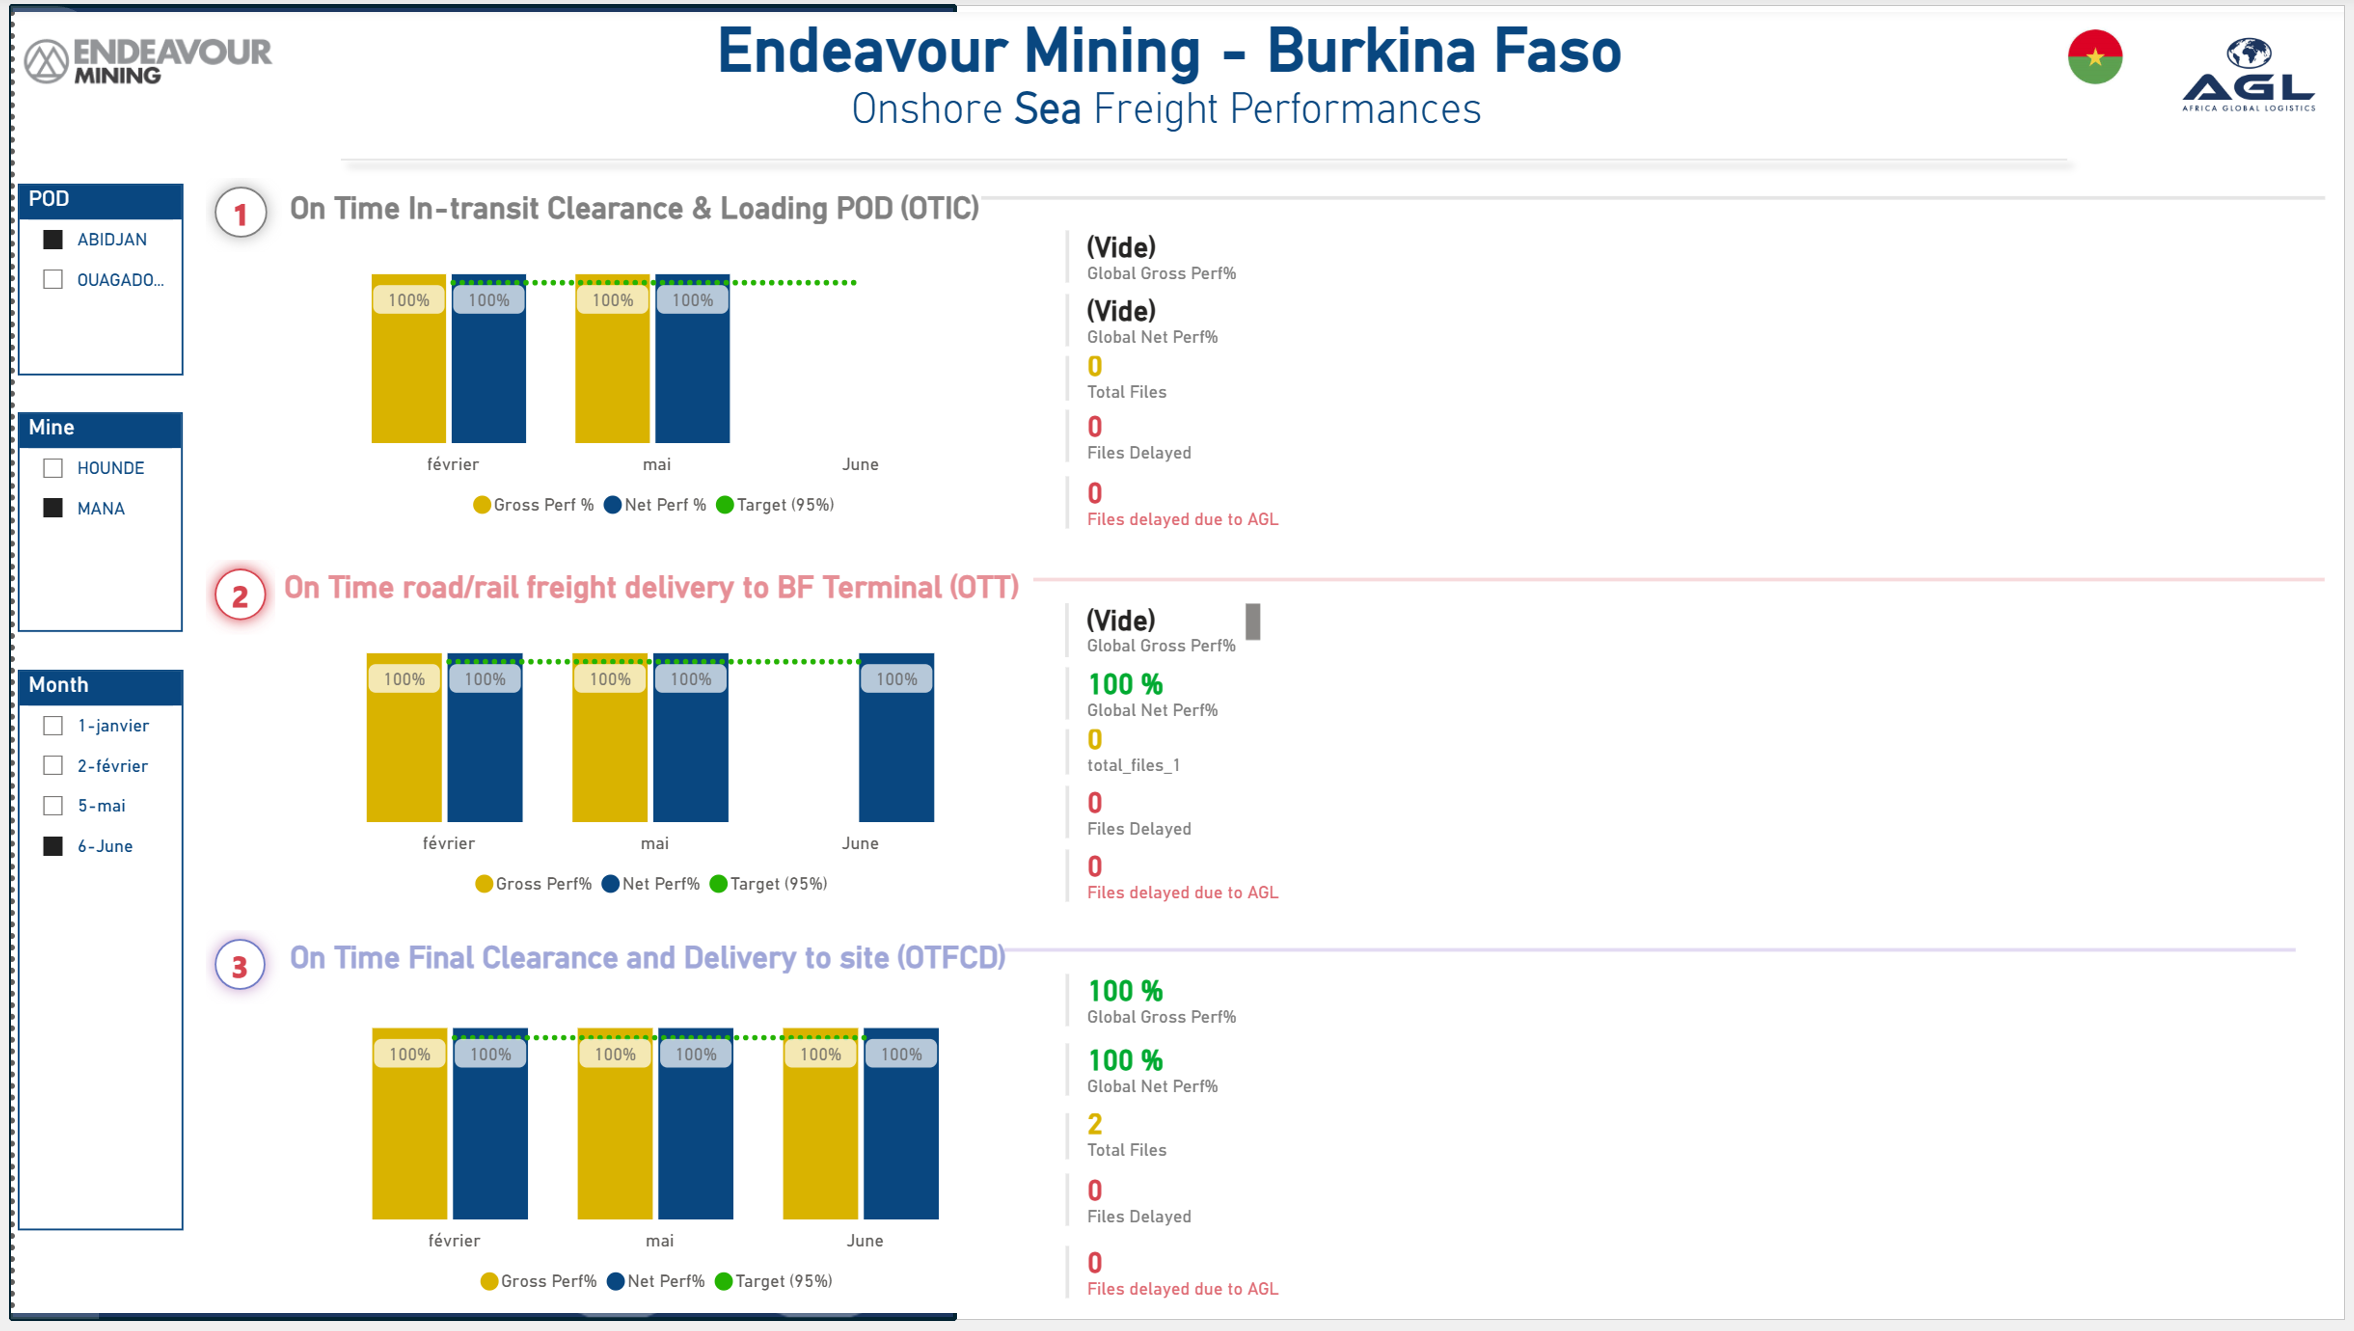

This screenshot's page, from the dashboard's own definition file:
{"tool":"powerbi","page":{"name":"(1) Sea Expéditions","canvas":[1280,720],"ordinal":1},"visuals":[{"type":"lineClusteredColumnComboChart","title":"On Time In-transit Clearance & Loading POD (OTIC)","fields":{"Category":["SeaBF.Month"],"Y":["Avg(SeaBF.Gross Perf % (In Transit))","Avg(SeaBF.Net Perf % (In Transit))"],"Y2":["mesures.target"]},"box":[145.7,101,413,191],"z":0},{"type":"multiRowCard","fields":{"Values":["mesures.total_files"]},"box":[572.2,184.6,117,38.9],"z":1000,"group":"g1"},{"type":"slicer","title":"    Month","fields":{"Values":["SeaBF.Mois_complet"]},"box":[2,365.2,91,308],"z":1000},{"type":"multiRowCard","fields":{"Values":["mesures.total_files_1"]},"box":[572.2,390.2,117,38.9],"z":1000,"group":"g2"},{"type":"multiRowCard","fields":{"Values":["mesures.total_files_3"]},"box":[572.2,600,117,43.2],"z":1000,"group":"g3"},{"type":"multiRowCard","fields":{"Values":["Avg(SeaBF.Gross Perf % (In Transit))"]},"box":[572.2,119,117,38.9],"z":2000,"group":"g1"},{"type":"slicer","title":"Mine","fields":{"Values":["SeaBF.MINE"]},"box":[1.6,224.1,90.6,120.8],"z":2000},{"type":"multiRowCard","fields":{"Values":["Avg(SeaBF.Gross Performance % 2)","Sum(air.Gross %)"]},"box":[572.2,324.5,117,38.9],"z":2000,"group":"g2"},{"type":"multiRowCard","fields":{"Values":["Avg(SeaBF.Gross Performance % 3)"]},"box":[572.2,527,117,43.2],"z":2000,"group":"g3"},{"type":"slicer","title":"POD","fields":{"Values":["SeaBF.Port of Destination"]},"box":[2,98,90.8,105.3],"z":3000},{"type":"multiRowCard","fields":{"Values":["Avg(SeaBF.Net Perf % (In Transit))"]},"box":[572.2,153.5,117,38.9],"z":3000,"group":"g1"},{"type":"multiRowCard","fields":{"Values":["Avg(SeaBF.Net Performance % 2)"]},"box":[572.2,359.1,117,38.9],"z":3000,"group":"g2"},{"type":"multiRowCard","fields":{"Values":["Avg(SeaBF.Net Performance % 3)"]},"box":[572.2,565.4,117,43.2],"z":3000,"group":"g3"},{"type":"clusteredBarChart","fields":{"Category":["SeaBF.Reason for delay1"],"Y":["CountNonNull(SeaBF.Reason for delay1)"]},"box":[719.3,99,311,191],"z":4000},{"type":"multiRowCard","fields":{"Values":["mesures.gross_fail_1"]},"box":[572.2,218.3,117,38.9],"z":4000,"group":"g1"},{"type":"multiRowCard","fields":{"Values":["mesures.gross_fail_2"]},"box":[572.2,423.9,117,38.9],"z":4000,"group":"g2"},{"type":"multiRowCard","fields":{"Values":["mesures.gross_fail_3"]},"box":[572.2,637.4,117,43.2],"z":4000,"group":"g3"},{"type":"donutChart","fields":{"Category":["SeaBF.Delay Responsibility"],"Y":["CountNonNull(SeaBF.Delay Responsibility)"]},"box":[1043,101,236.4,191.1],"z":5000},{"type":"multiRowCard","fields":{"Values":["mesures.net_fail_1"]},"box":[572.2,253.7,129.6,38.9],"z":5000,"group":"g1"},{"type":"multiRowCard","fields":{"Values":["mesures.net_fail_2"]},"box":[572.2,459.4,129.6,38.9],"z":5000,"group":"g2"},{"type":"multiRowCard","fields":{"Values":["mesures.net_fail_3"]},"box":[572.2,676.8,129.6,43.2],"z":5000,"group":"g3"},{"type":"shape","box":[101,92,45,44],"z":6000},{"type":"shape","box":[101,302,44.4,44.4],"z":7000},{"type":"shape","box":[101,504.6,44,44],"z":8000},{"type":"group","id":"g1","title":"Groupe 1","box":[572.2,119,129.6,175.7],"z":9000},{"type":"lineClusteredColumnComboChart","title":"On Time road/rail freight delivery to BF Terminal  (OTT)","fields":{"Category":["SeaBF.Month"],"Y2":["mesures.target"],"Y":["Avg(SeaBF.Gross Performance % 2)","Avg(SeaBF.Net Performance % 2)"]},"box":[143.7,310,417,191],"z":10000},{"type":"group","id":"g2","title":"Groupe 1","box":[572.2,324.5,129.6,173.8],"z":11000},{"type":"clusteredBarChart","fields":{"Category":["SeaBF.Reason for delay2"],"Y":["CountNonNull(SeaBF.Reason for delay2)"]},"box":[718.8,310,312,191],"z":12000},{"type":"donutChart","fields":{"Category":["SeaBF.Delay Responsibility 2"],"Y":["CountNonNull(SeaBF.Delay Responsibility 2)"]},"box":[1043.2,309.3,236,191],"z":13000},{"type":"lineClusteredColumnComboChart","title":"On Time Final Clearance and Delivery to site  (OTFCD)","fields":{"Category":["SeaBF.Month"],"Y2":["mesures.target"],"Y":["Avg(SeaBF.Gross Performance % 3)","Avg(SeaBF.Net Performance % 3)"]},"box":[146.9,514.2,416.2,205.8],"z":14000},{"type":"group","id":"g3","title":"Groupe 1","box":[572.2,527,129.6,193],"z":15000},{"type":"clusteredBarChart","fields":{"Category":["SeaBF.Reasons for Delay 3"],"Y":["CountNonNull(SeaBF.Reasons for Delay 3)"]},"box":[719,514.6,312,205.4],"z":16000},{"type":"donutChart","fields":{"Category":["SeaBF.Delay Responsibility3"],"Y":["CountNonNull(SeaBF.Delay Responsibility3)"]},"box":[1042.6,514.6,236.2,205.4],"z":17000},{"type":"textbox","box":[169,0,941,79],"z":18000},{"type":"image","box":[0,0,146.7,62.5],"z":19000},{"type":"image","box":[1176.5,3.6,103.2,70.6],"z":20000},{"type":"image","box":[1118.5,3.6,48,51.6],"z":21000},{"type":"shape","box":[169.4,77,966.3,18.1],"z":22000},{"type":"shape","box":[530.9,100.8,738.2,12.5],"z":23000},{"type":"shape","box":[558.7,309.1,709.4,15.4],"z":24000},{"type":"shape","box":[544.3,511.7,709.4,15.4],"z":25000}]}

Visuals, with their boxes in screenshot pixels (x1, y1, x2, y2), scaled from the page's 1280x720 canvas onto the 2354x1331 screenshot:
"On Time In-transit Clearance & Loading POD (OTIC)" lineClusteredColumnComboChart: [left=268, top=187, right=1027, bottom=540]
multiRowCard - mesures.total_files: [left=1052, top=341, right=1267, bottom=413]
"    Month" slicer: [left=4, top=675, right=171, bottom=1244]
multiRowCard - mesures.total_files_1: [left=1052, top=721, right=1267, bottom=793]
multiRowCard - mesures.total_files_3: [left=1052, top=1109, right=1267, bottom=1189]
multiRowCard - Avg(SeaBF.Gross Perf % (In Transit)): [left=1052, top=220, right=1267, bottom=292]
"Mine" slicer: [left=3, top=414, right=170, bottom=638]
multiRowCard - Avg(SeaBF.Gross Performance % 2) x Sum(air.Gross %): [left=1052, top=600, right=1267, bottom=672]
multiRowCard - Avg(SeaBF.Gross Performance % 3): [left=1052, top=974, right=1267, bottom=1054]
"POD" slicer: [left=4, top=181, right=171, bottom=376]
multiRowCard - Avg(SeaBF.Net Perf % (In Transit)): [left=1052, top=284, right=1267, bottom=356]
multiRowCard - Avg(SeaBF.Net Performance % 2): [left=1052, top=664, right=1267, bottom=736]
multiRowCard - Avg(SeaBF.Net Performance % 3): [left=1052, top=1045, right=1267, bottom=1125]
clusteredBarChart - SeaBF.Reason for delay1 x CountNonNull(SeaBF.Reason for delay1): [left=1323, top=183, right=1895, bottom=536]
multiRowCard - mesures.gross_fail_1: [left=1052, top=404, right=1267, bottom=475]
multiRowCard - mesures.gross_fail_2: [left=1052, top=784, right=1267, bottom=856]
multiRowCard - mesures.gross_fail_3: [left=1052, top=1178, right=1267, bottom=1258]
donutChart - SeaBF.Delay Responsibility x CountNonNull(SeaBF.Delay Responsibility): [left=1918, top=187, right=2353, bottom=540]
multiRowCard - mesures.net_fail_1: [left=1052, top=469, right=1291, bottom=541]
multiRowCard - mesures.net_fail_2: [left=1052, top=849, right=1291, bottom=921]
multiRowCard - mesures.net_fail_3: [left=1052, top=1251, right=1291, bottom=1330]
shape: [left=186, top=170, right=269, bottom=251]
shape: [left=186, top=558, right=267, bottom=640]
shape: [left=186, top=933, right=267, bottom=1014]
"Groupe 1" group: [left=1052, top=220, right=1291, bottom=545]
"On Time road/rail freight delivery to BF Terminal  (OTT)" lineClusteredColumnComboChart: [left=264, top=573, right=1031, bottom=926]
"Groupe 1" group: [left=1052, top=600, right=1291, bottom=921]
clusteredBarChart - SeaBF.Reason for delay2 x CountNonNull(SeaBF.Reason for delay2): [left=1322, top=573, right=1896, bottom=926]
donutChart - SeaBF.Delay Responsibility 2 x CountNonNull(SeaBF.Delay Responsibility 2): [left=1919, top=572, right=2353, bottom=925]
"On Time Final Clearance and Delivery to site  (OTFCD)" lineClusteredColumnComboChart: [left=270, top=951, right=1036, bottom=1330]
"Groupe 1" group: [left=1052, top=974, right=1291, bottom=1330]
clusteredBarChart - SeaBF.Reasons for Delay 3 x CountNonNull(SeaBF.Reasons for Delay 3): [left=1322, top=951, right=1896, bottom=1330]
donutChart - SeaBF.Delay Responsibility3 x CountNonNull(SeaBF.Delay Responsibility3): [left=1917, top=951, right=2352, bottom=1330]
textbox: [left=311, top=0, right=2041, bottom=146]
image: [left=0, top=0, right=270, bottom=116]
image: [left=2164, top=7, right=2353, bottom=137]
image: [left=2057, top=7, right=2145, bottom=102]
shape: [left=312, top=142, right=2089, bottom=176]
shape: [left=976, top=186, right=2334, bottom=209]
shape: [left=1027, top=571, right=2332, bottom=600]
shape: [left=1001, top=946, right=2306, bottom=974]
